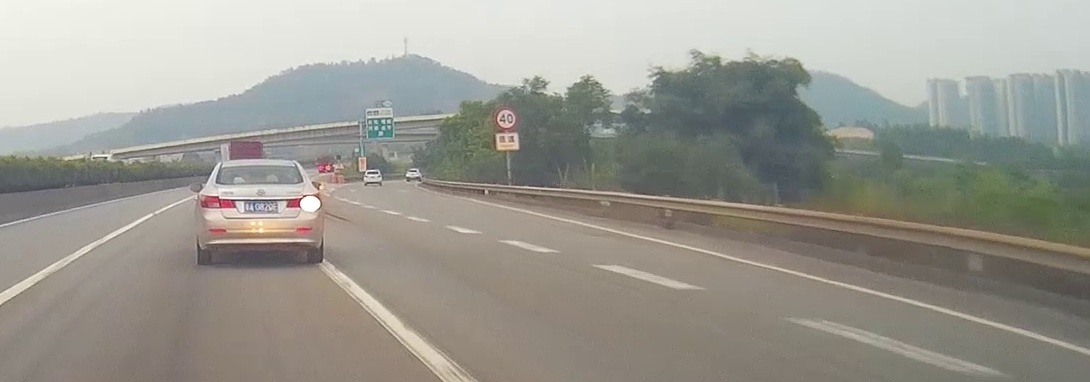L_light: (199, 194, 236, 208)
R_light: (286, 193, 321, 208)
T_light: (250, 166, 267, 169)
day-right: (195, 161, 323, 265)
